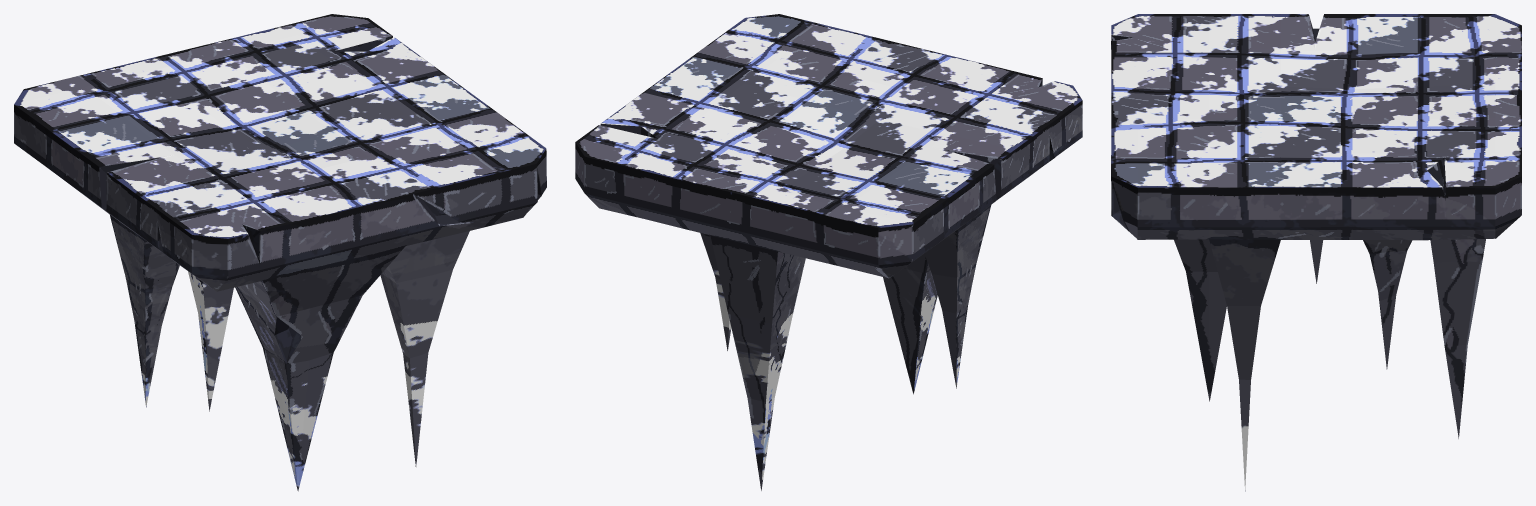
The model's file is FallingPlatform.fbx.
3 renders of one model, left to right at view 1: azimuth 30°, elevation 25°; view 2: azimuth 150°, elevation 25°; view 3: azimuth 270°, elevation 25°, orthographic. The views are drawn at different scales.
Parts seen in each view (by area): view 1: Cube; view 2: Cube; view 3: Cube.
Part boxes in pixels (x1,y1,x2,y2): Cube: (14,14,546,491); Cube: (575,14,1082,490); Cube: (1111,14,1521,491).
Size of the model in its own units: 1184 by 1085 by 1181.
